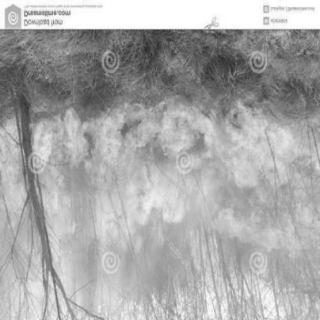Fire: (1, 100, 317, 278)
